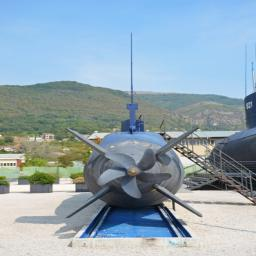submarine: (28, 100, 215, 217)
